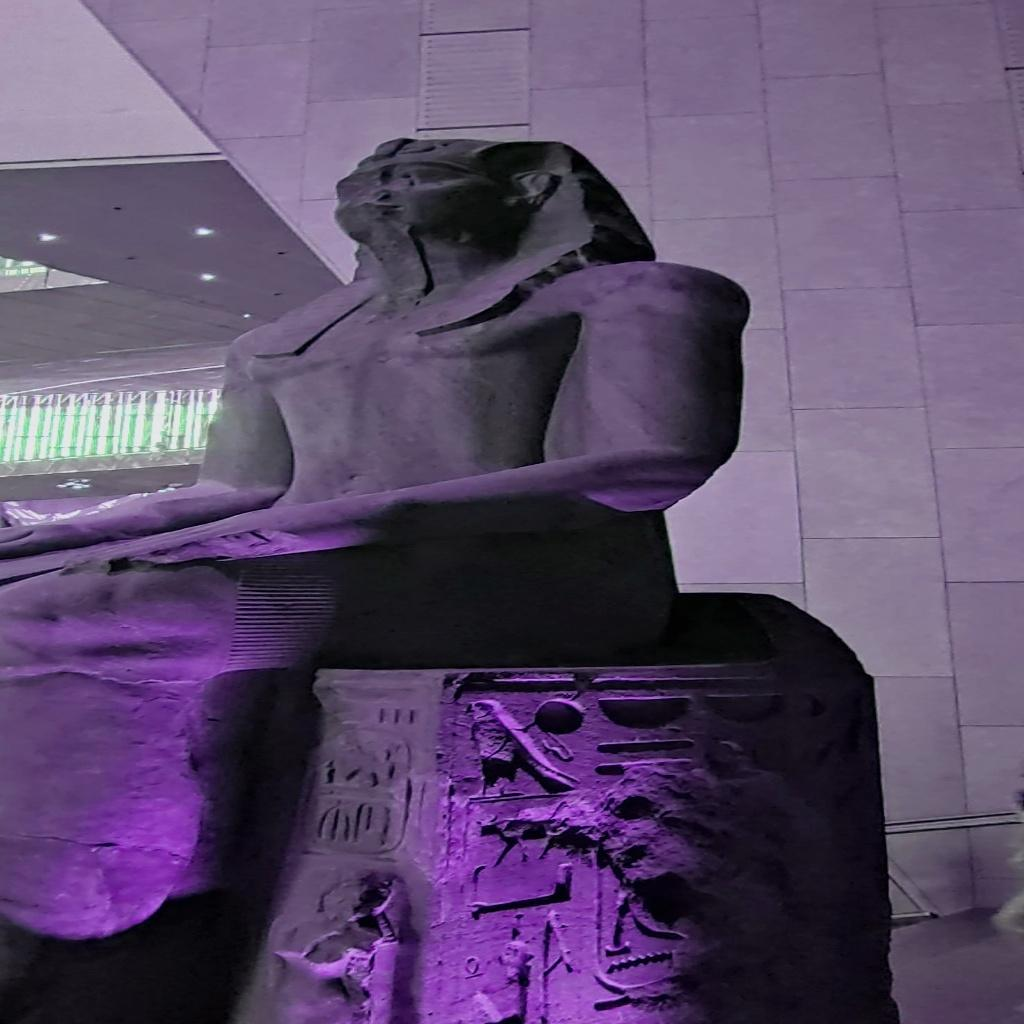Colossal Statue of Middle Kingdom King: (8, 132, 902, 1018)
